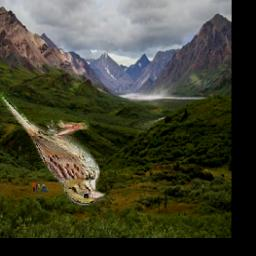Sparrow: (0, 93, 106, 208)
